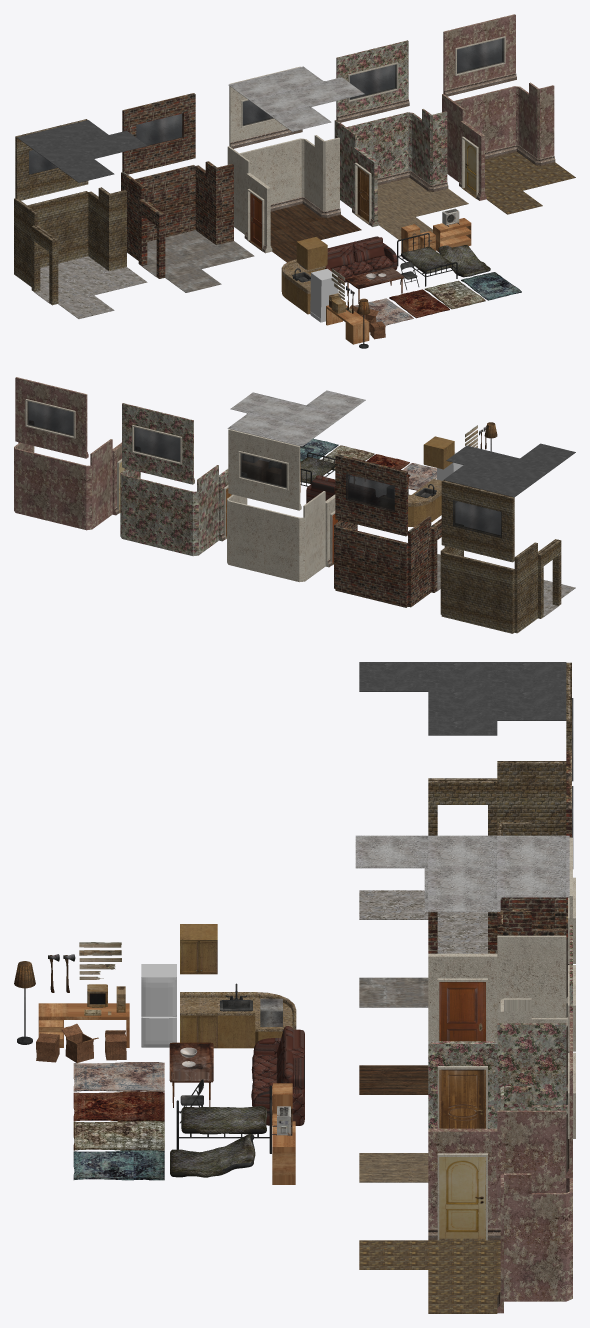
Rendered from PSX Pack V1.fbx.
3 renders of one model, top to bottom at view 1: azimuth 30°, elevation 25°; view 2: azimuth 150°, elevation 25°; view 3: azimuth 270°, elevation 25°, orthographic. The views are drawn at different scales.
Visible parts, largest first — view 1: FrameDoor.005, Wall_Brick.002, FrameDoor.004, Ceiling4.002, Ceiling4.001, Wall_Brick1, Wall_Brick, Wall_Indoor0.003, Wall_Indoor1.002, Wall_Indoor2.002, Floor3.001, Floor4.003 (+58 smaller); view 2: Wall_Brick1, Wall_Brick, Wall_Indoor2.002, Wall_Indoor0.003, Wall_Indoor1.002, FrameDoor.005, Wall_Brick1.002, Wall_Indoor0.005, Wall_Brick.002, FrameDoor.004, Ceiling4.002, Ceiling4.001 (+33 smaller); view 3: Ceiling4.002, Ceiling4.001, Floor0, Wall_Indoor2.001, Wall_IndoorHalf2.002, Door0, Wall_Indoor0.002, Wall_Indoor1.001, Wall_IndoorEdge2.009, Wall_Indoor2, Wall_Brick1.001, Wall_Indoor0.004 (+41 smaller).
Boxes of the visible parts, x1,y1,x2,y2 form: FrameDoor.005: (443,14,516,96); Wall_Brick.002: (122,93,195,174); FrameDoor.004: (336,40,409,122); Ceiling4.002: (228,66,346,116); Ceiling4.001: (17,120,129,167); Wall_Brick1: (27,191,88,267); Wall_Brick: (135,165,195,241); Wall_Indoor0.003: (239,138,302,211); Wall_Indoor1.002: (346,112,409,185); Wall_Indoor2.002: (454,86,516,159); Floor3.001: (147,230,236,277); Floor4.003: (40,256,129,303); Wall_Brick1: (441,551,514,633); Wall_Brick: (335,525,407,607); Wall_Indoor2.002: (15,448,86,529); Wall_Indoor0.003: (228,500,299,581); Wall_Indoor1.002: (122,474,193,555); FrameDoor.005: (15,377,88,458); Wall_Brick1.002: (441,480,514,562); Wall_Indoor0.005: (228,429,301,510); Wall_Brick.002: (335,454,407,536); FrameDoor.004: (122,403,194,484); Ceiling4.002: (227,397,344,446); Ceiling4.001: (444,450,555,497); Ceiling4.002: (424,835,569,897); Ceiling4.001: (428,662,566,720); Floor0: (428,1240,500,1298); Wall_Indoor2.001: (497,1131,566,1240); Wall_IndoorHalf2.002: (531,1193,566,1301); Door0: (439,1157,485,1238); Wall_Indoor0.002: (497,956,566,1023); Wall_Indoor1.001: (497,1044,566,1110); Wall_IndoorEdge2.009: (497,1194,531,1313); Wall_Indoor2: (428,1130,497,1240); Wall_Brick1.001: (497,783,566,835); Wall_Indoor0.004: (428,955,497,1041).
Bounding box in the file's own units: 14666 × 3667 × 8142.
